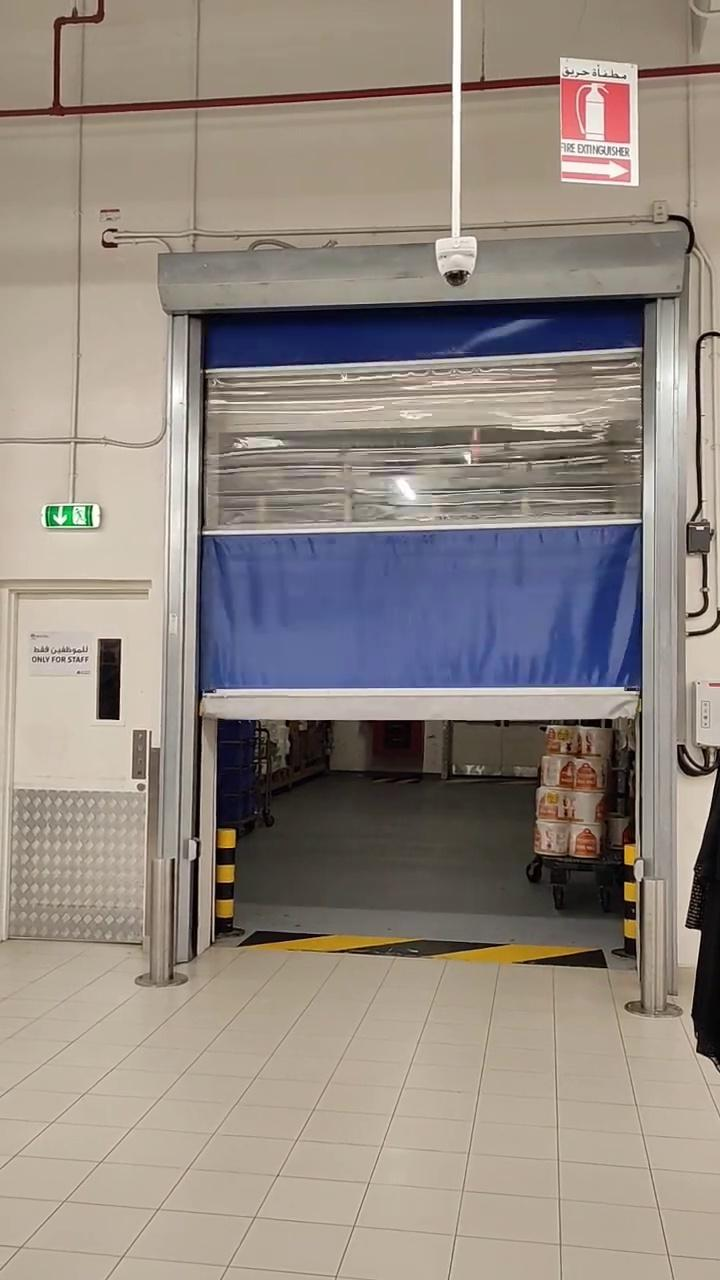Strip: (245, 913, 605, 973)
